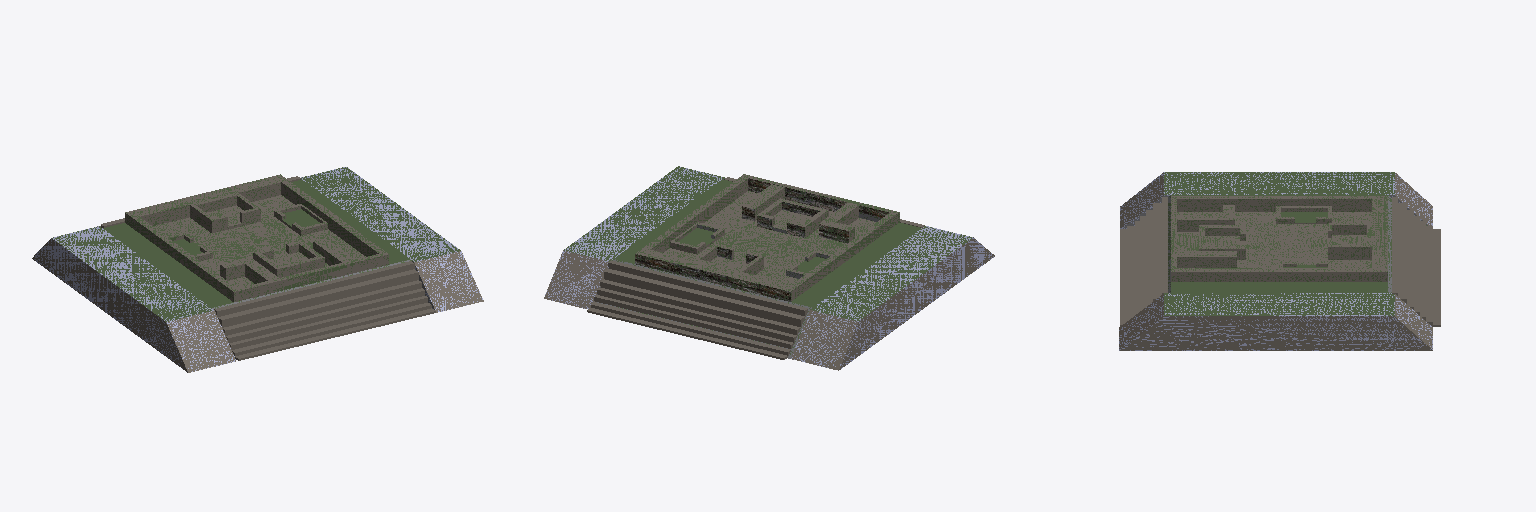
3 renders of one model, left to right at view 1: azimuth 30°, elevation 25°; view 2: azimuth 150°, elevation 25°; view 3: azimuth 270°, elevation 25°, orthographic.
Parts seen in each view (by area): view 1: Mesh3 Group4 Group1 Model, Mesh5 Group1 Model, Mesh2 Group3 Group1 Model, Mesh4 Group1 Model; view 2: Mesh3 Group4 Group1 Model, Mesh5 Group1 Model, Mesh1 Group2 Group1 Model, Mesh4 Group1 Model; view 3: Mesh3 Group4 Group1 Model, Mesh4 Group1 Model, Mesh5 Group1 Model, Mesh1 Group2 Group1 Model, Mesh2 Group3 Group1 Model.
Part boxes in pixels (x1,y1,x2,y2): Mesh3 Group4 Group1 Model: (103,174,410,309); Mesh5 Group1 Model: (32,226,235,372); Mesh2 Group3 Group1 Model: (214,261,435,360); Mesh4 Group1 Model: (300,167,483,312); Mesh3 Group4 Group1 Model: (597,174,920,358); Mesh5 Group1 Model: (791,226,994,370); Mesh1 Group2 Group1 Model: (587,260,807,359); Mesh4 Group1 Model: (544,166,724,308); Mesh3 Group4 Group1 Model: (1168,195,1426,292); Mesh4 Group1 Model: (1119,293,1432,350); Mesh5 Group1 Model: (1120,172,1432,228); Mesh1 Group2 Group1 Model: (1392,197,1440,326); Mesh2 Group3 Group1 Model: (1120,197,1167,326).
Size of the model in its own units: 7.49 by 1.1 by 7.05.
Materials: 6 (1 with a texture image).